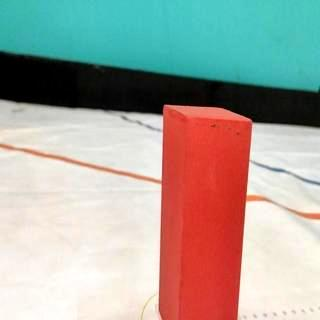redbox: (160, 105, 252, 320)
